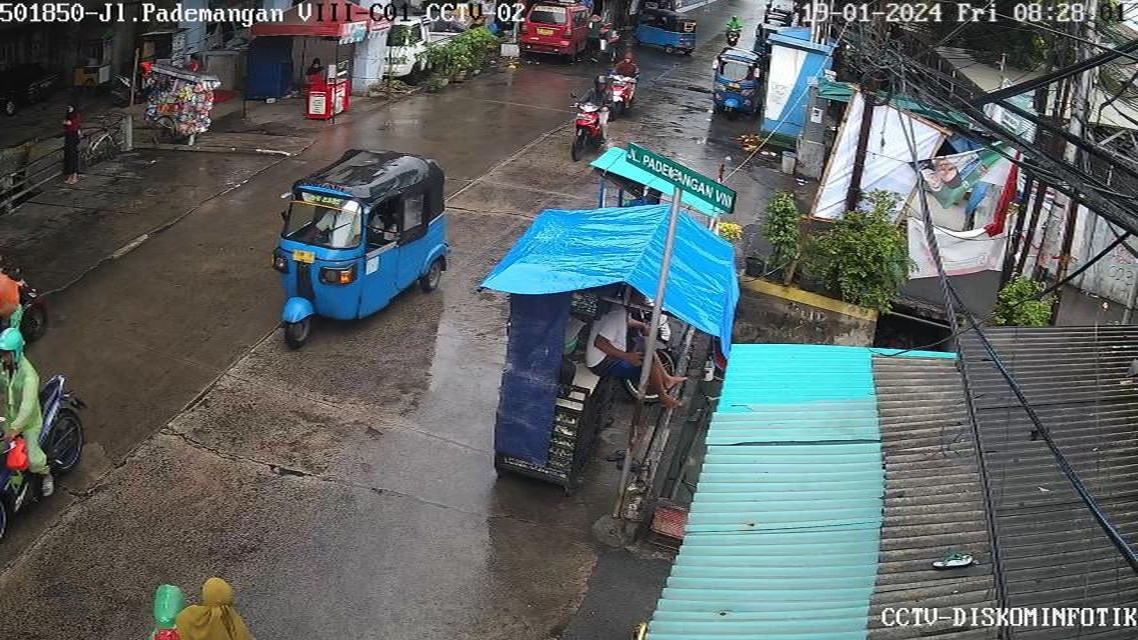Gerobak: (475, 204, 754, 493), (132, 55, 233, 156), (301, 55, 372, 120)
